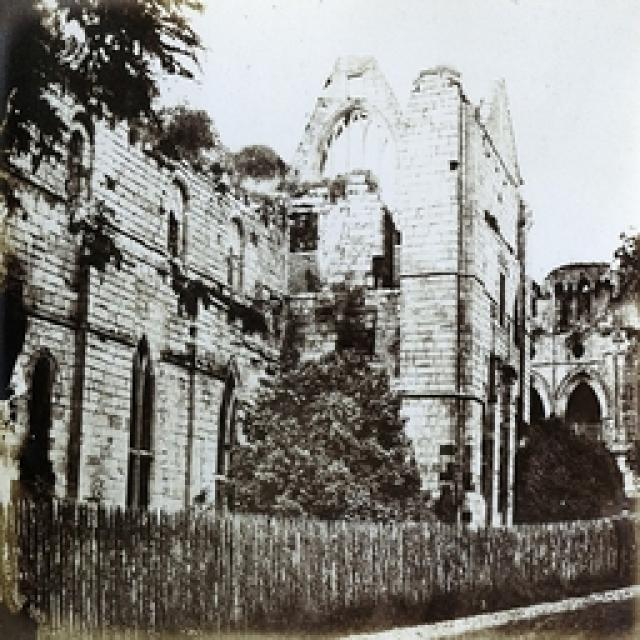Abbey: (294, 56, 541, 533)
